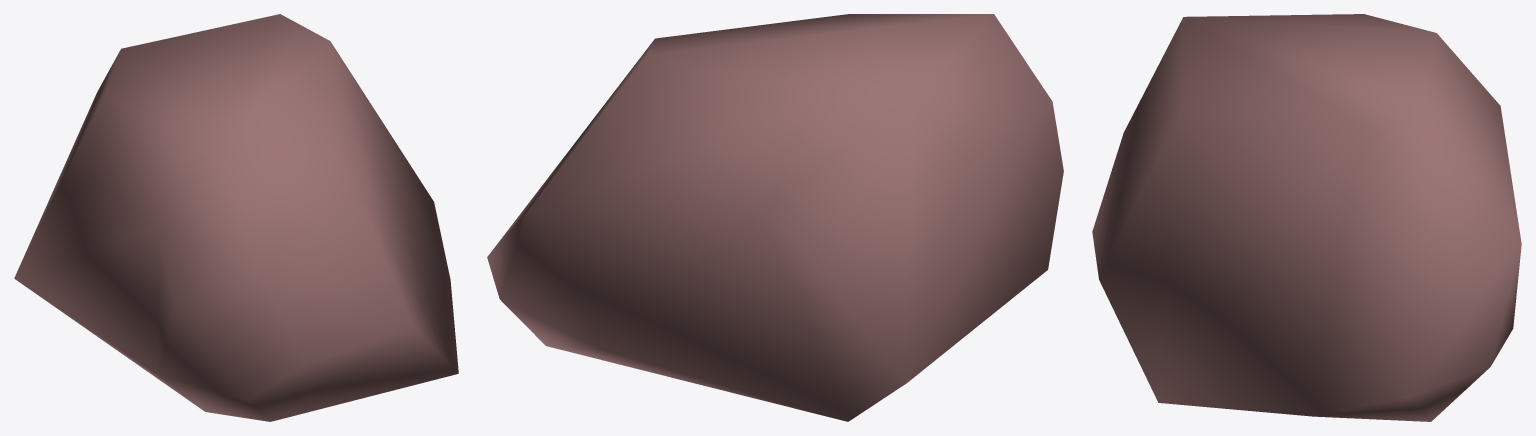
Rendered from small_rock_06.fbx.
3 views of the same model, side by side, from view 1: azimuth 30°, elevation 25°; view 2: azimuth 150°, elevation 25°; view 3: azimuth 270°, elevation 25° (orthographic). The views are drawn at different scales.
Parts seen in each view (by area): view 1: small_rock_06; view 2: small_rock_06; view 3: small_rock_06.
Part boxes in pixels (<box>): small_rock_06: <box>14,14,458,421</box>; small_rock_06: <box>487,14,1063,421</box>; small_rock_06: <box>1092,14,1521,421</box>.
Bounding box in the file's own units: 51.55 × 34.25 × 48.29.
